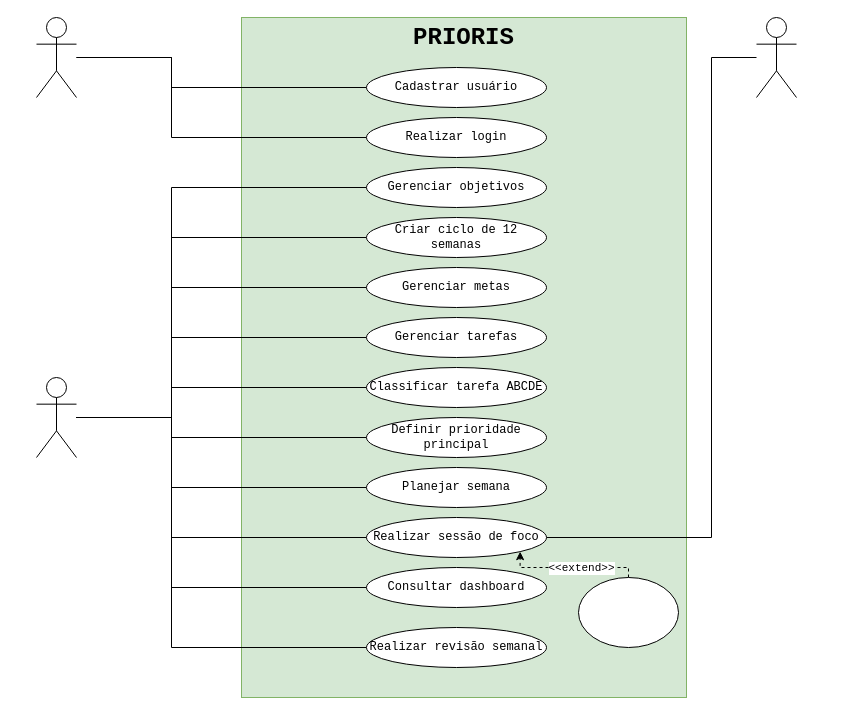
This 844x715 diagram has some shape labels left out. Here are the shapes that lost their labels. From the top down, the centre of each, then its label:
the point at 56,57: VISITANTE
the point at 776,57: YOUTUBE IFRAME PLAYER API
the point at 56,417: USUÁRIO AUTENTICADO
the point at 628,612: Reproduzir conteúdo do YouTube
